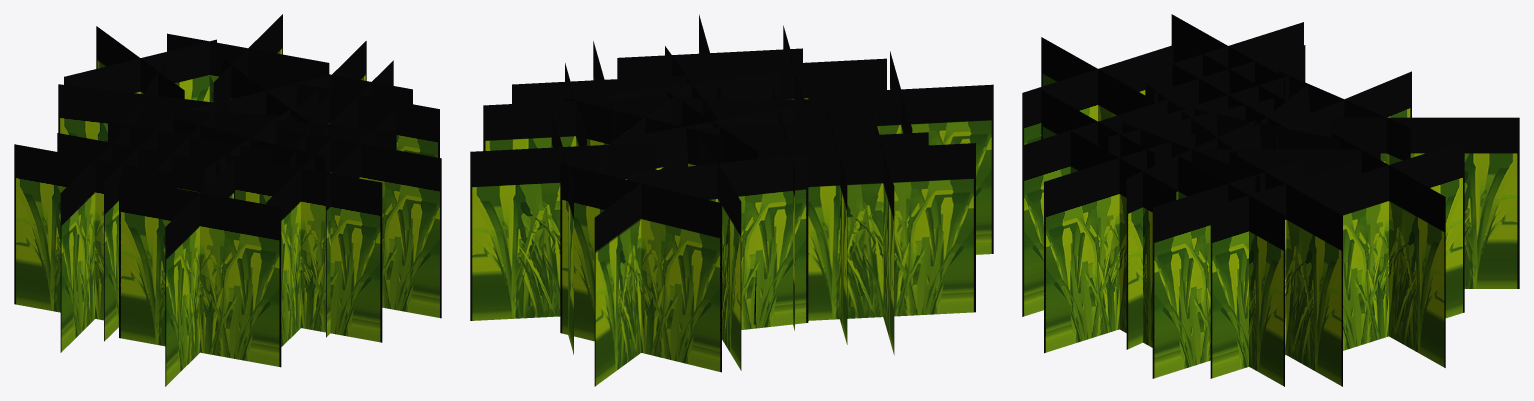
Rendered from grassPatch.fbx.
The picture shows the model from 3 angles, left to right: view 1: azimuth 30°, elevation 25°; view 2: azimuth 150°, elevation 25°; view 3: azimuth 270°, elevation 25°; orthographic projection. The views are drawn at different scales.
Visible parts, largest first — view 1: grassPatch; view 2: grassPatch; view 3: grassPatch.
Boxes of the visible parts, x1,y1,x2,y2 form: grassPatch: [14, 14, 441, 386]; grassPatch: [470, 14, 993, 386]; grassPatch: [1022, 14, 1519, 386].
Size of the model in its own units: 2.52 by 1.05 by 2.63.
1 material, 1 textured.
